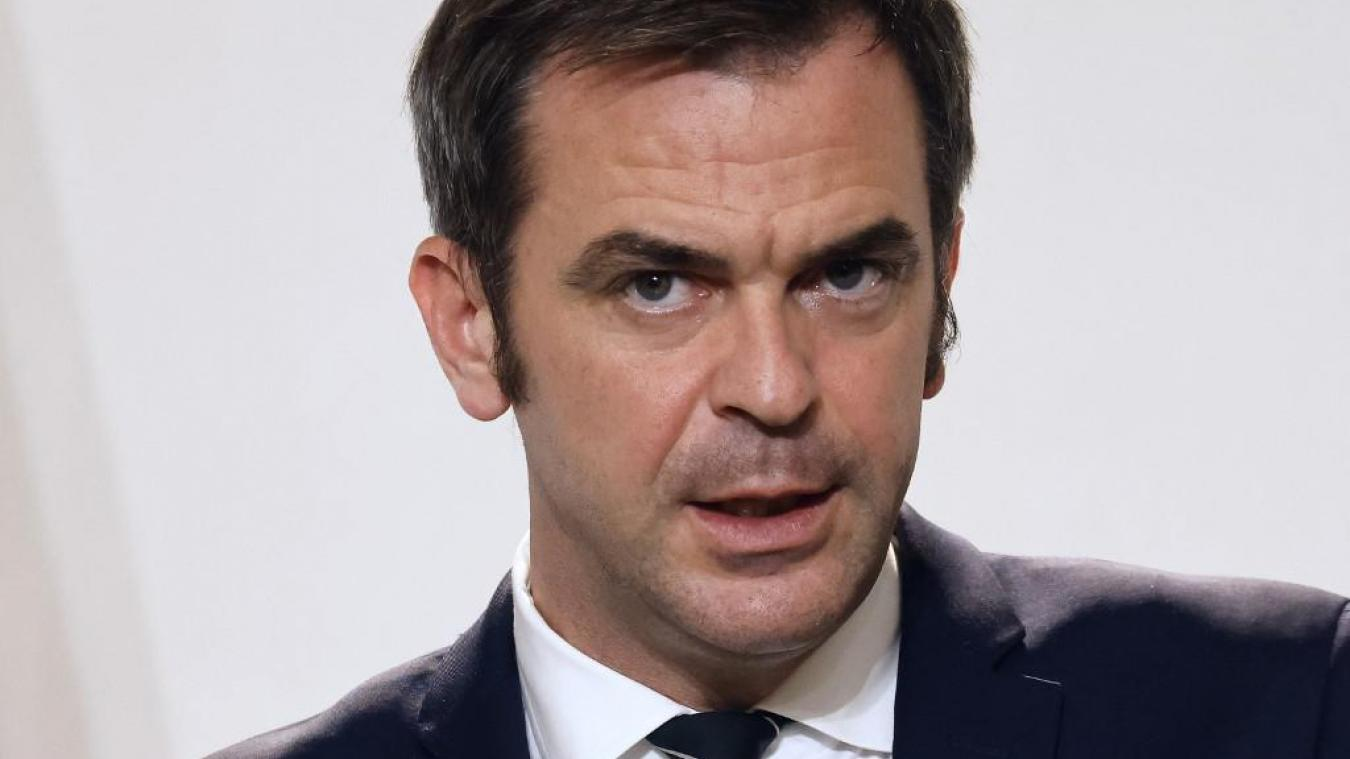without_mask: (548, 147, 913, 673)
